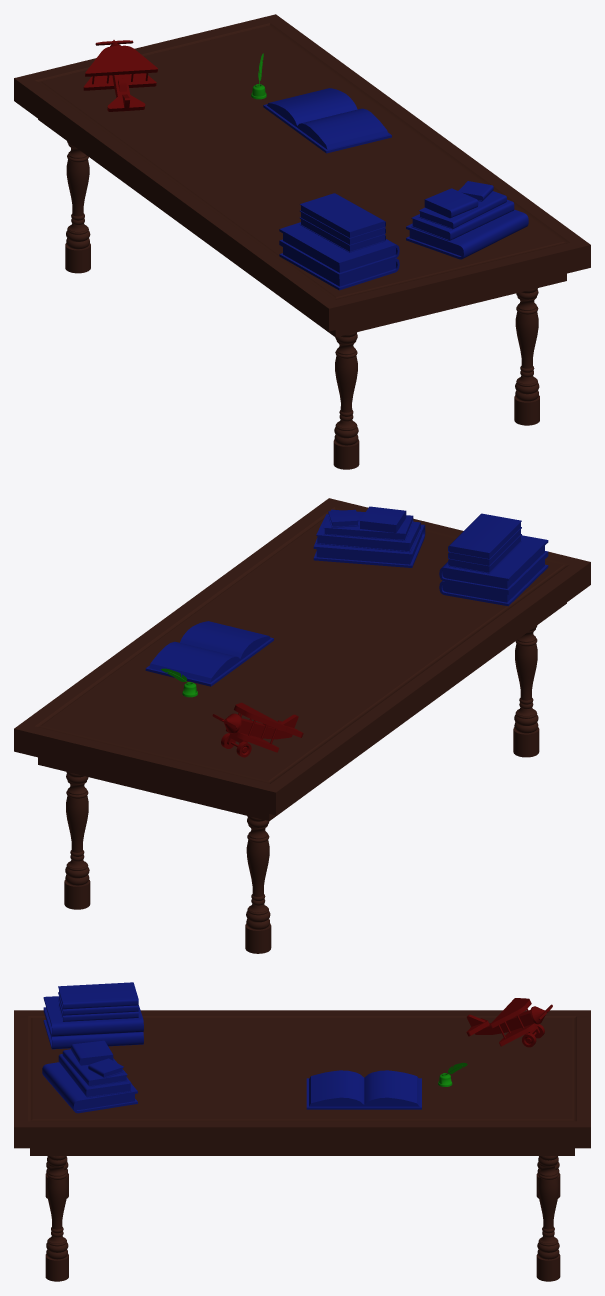
The model's file is studyTable03.fbx.
The picture shows the model from 3 angles, top to bottom: view 1: azimuth 30°, elevation 25°; view 2: azimuth 150°, elevation 25°; view 3: azimuth 270°, elevation 25°; orthographic projection. The views are drawn at different scales.
Parts seen in each view (by area): view 1: table, book open, whole plane, book L 003, book L 001, book M 005, book L 002, book M 001, book M 002, book S 001, book M 003, book M 004; view 2: table, book open, book L 003, whole plane, book M 005, book L 001, book L 002, book M 001, book M 002, book S 001; view 3: table, book open, whole plane, book L 001, book L 003, book M 005, book L 002, book M 001, book M 002, book S 001, book M 003, book M 004 (+1 smaller).
Boxes of the visible parts, box(x1,y1,x2,y2) form: table: box(14, 14, 590, 469); book open: box(263, 88, 391, 153); whole plane: box(83, 40, 157, 111); book L 003: box(279, 222, 399, 276); book L 001: box(406, 209, 528, 259); book M 005: box(300, 193, 385, 238); book L 002: box(279, 243, 399, 290); book M 001: box(411, 199, 514, 240); book M 002: box(419, 191, 506, 229); book S 001: box(424, 188, 478, 218); book M 003: box(299, 218, 385, 252); book M 004: box(299, 211, 385, 245); table: box(14, 498, 590, 953); book open: box(145, 621, 273, 686); book L 003: box(439, 535, 548, 592); whole plane: box(212, 702, 303, 757); book M 005: box(448, 513, 521, 559); book L 001: box(313, 524, 425, 567); book L 002: box(439, 554, 548, 606); book M 001: box(316, 514, 420, 552); book M 002: box(323, 509, 413, 540); book S 001: box(360, 506, 406, 532); table: box(14, 1010, 590, 1281); book open: box(306, 1070, 421, 1109); whole plane: box(466, 998, 552, 1047); book L 001: box(42, 1062, 137, 1113); book L 003: box(43, 996, 143, 1036); book M 005: box(58, 982, 138, 1009); book L 002: box(43, 1010, 143, 1049); book M 001: box(58, 1054, 131, 1097); book M 002: box(62, 1049, 127, 1086); book S 001: box(71, 1040, 113, 1065); book M 003: box(58, 999, 138, 1021); book M 004: box(58, 996, 138, 1015).
Size of the model in its own units: 120 by 101 by 250.
